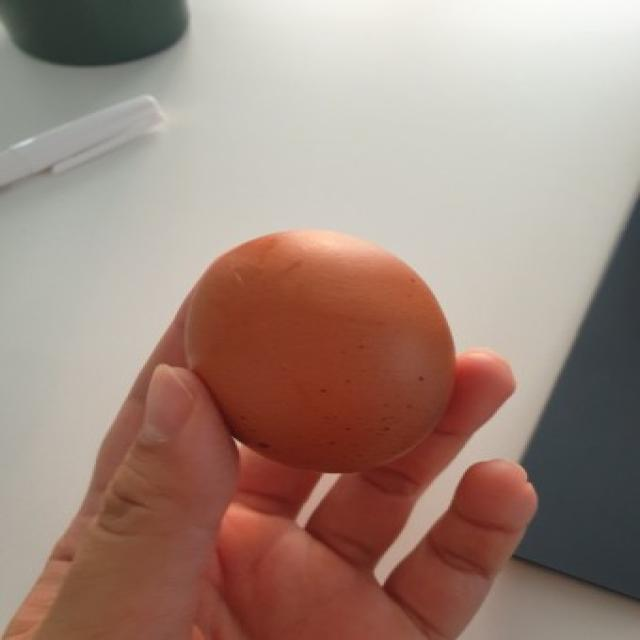eggs: (174, 227, 463, 474)
